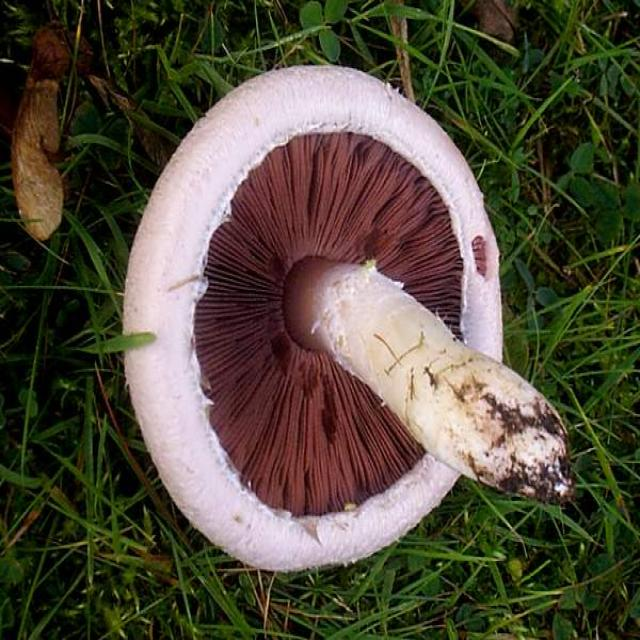field-mushroom: (121, 65, 575, 575)
